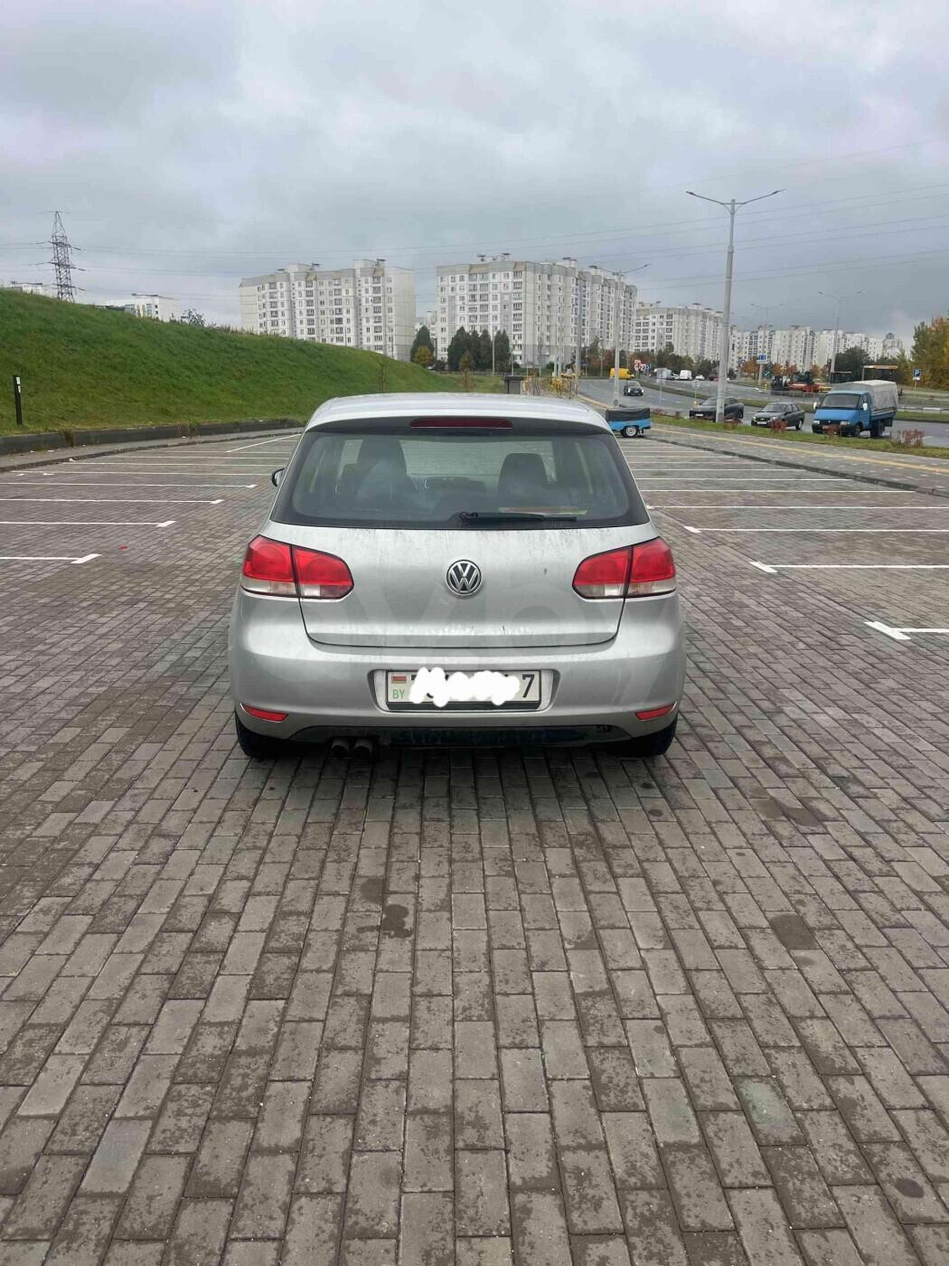Golf_2008-2013: (228, 392, 684, 778)
